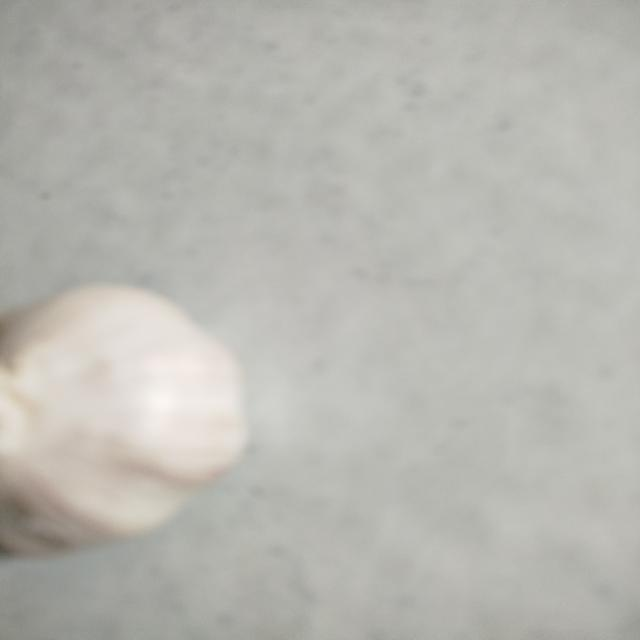garlic: (1, 281, 249, 557)
